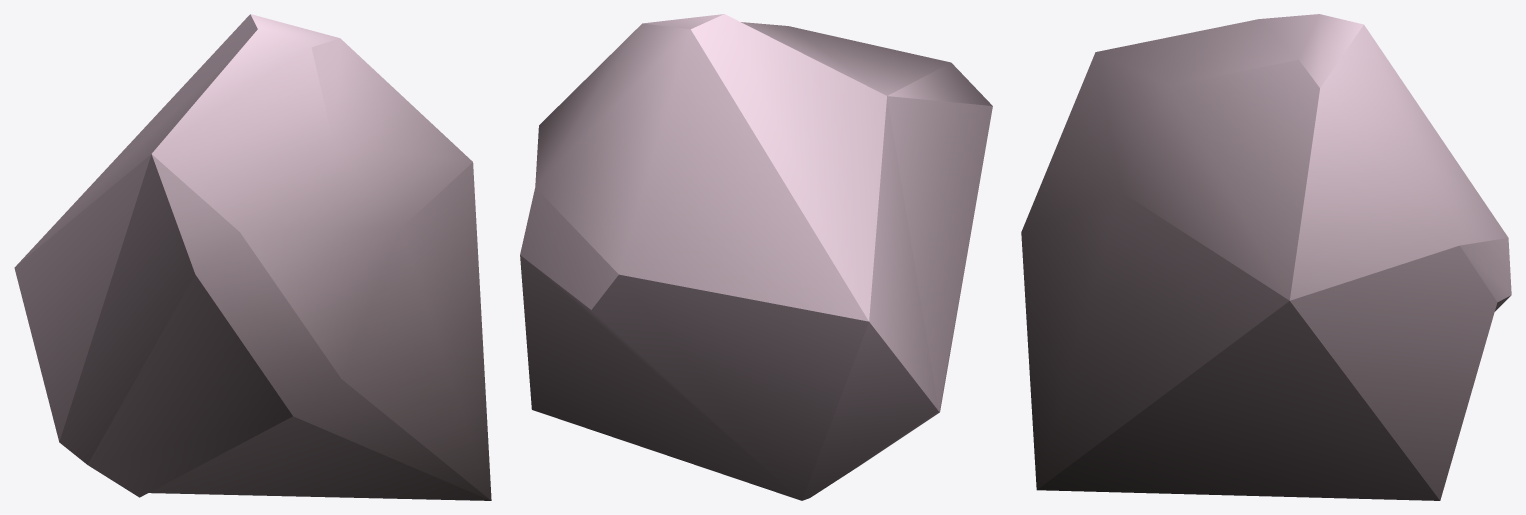
Rendered from Dino_Rock3.fbx.
3 views of the same model, side by side, from view 1: azimuth 30°, elevation 25°; view 2: azimuth 150°, elevation 25°; view 3: azimuth 270°, elevation 25° (orthographic). The views are drawn at different scales.
Parts seen in each view (by area): view 1: rock2; view 2: rock2; view 3: rock2.
Boxes of the visible parts, x1,y1,x2,y2 form: rock2: (14, 14, 491, 500); rock2: (520, 14, 992, 500); rock2: (1021, 14, 1511, 500).
Bounding box in the file's own units: 0.8895 × 0.9381 × 0.8701.
